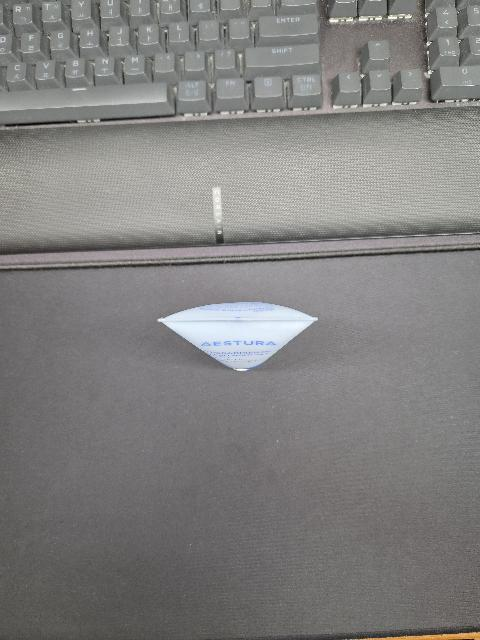handcream: (157, 302, 318, 371)
